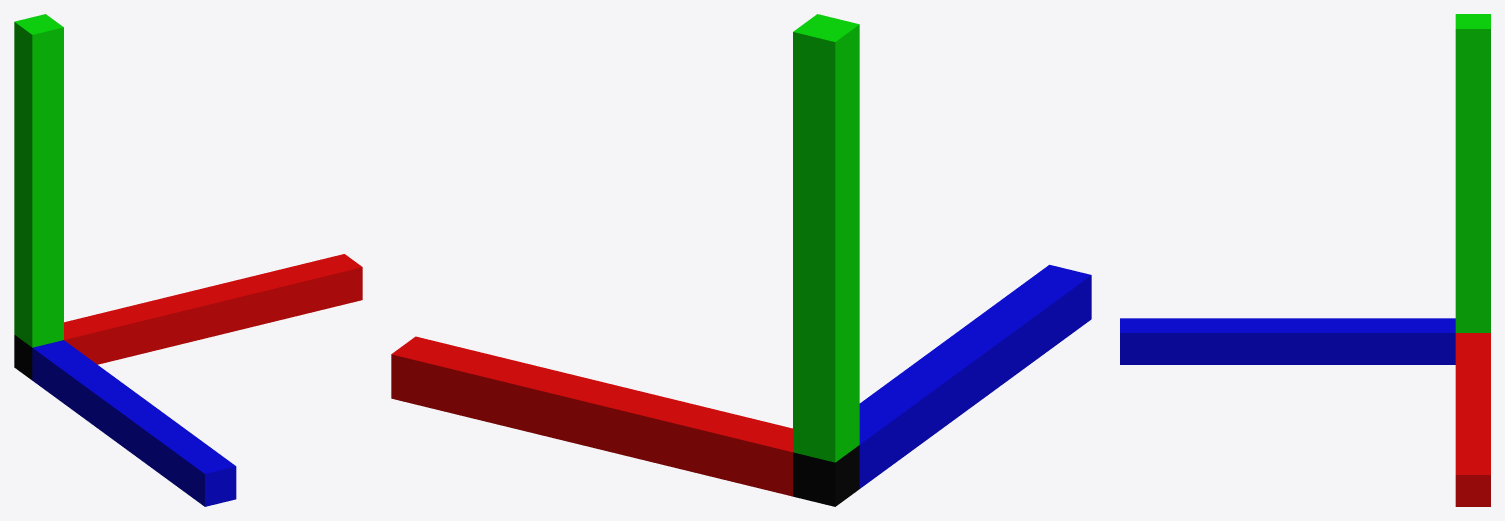
The model's file is axis.fbx.
The picture shows the model from 3 angles, left to right: view 1: azimuth 30°, elevation 25°; view 2: azimuth 150°, elevation 25°; view 3: azimuth 270°, elevation 25°; orthographic projection. The views are drawn at different scales.
Parts seen in each view (by area): view 1: yAxis, xAxis, zAxis, origin; view 2: yAxis, xAxis, zAxis, origin; view 3: zAxis, yAxis, xAxis.
Part boxes in pixels (x1=…): yAxis: x1=14, y1=14, x2=63, y2=347; xAxis: x1=64, y1=254, x2=362, y2=364; zAxis: x1=32, y1=340, x2=236, y2=506; origin: x1=14, y1=335, x2=32, y2=380; yAxis: x1=793, y1=14, x2=859, y2=462; xAxis: x1=391, y1=336, x2=792, y2=496; zAxis: x1=859, y1=264, x2=1091, y2=488; origin: x1=793, y1=445, x2=859, y2=506; zAxis: x1=1120, y1=318, x2=1455, y2=364; yAxis: x1=1455, y1=14, x2=1490, y2=332; xAxis: x1=1455, y1=333, x2=1490, y2=506.
Bounding box in the file's own units: 105 × 105 × 105.
